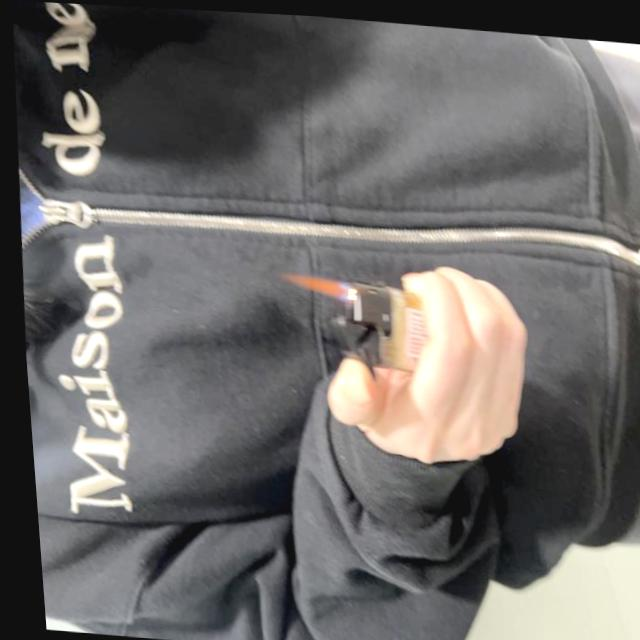Fire: (275, 271, 353, 298)
